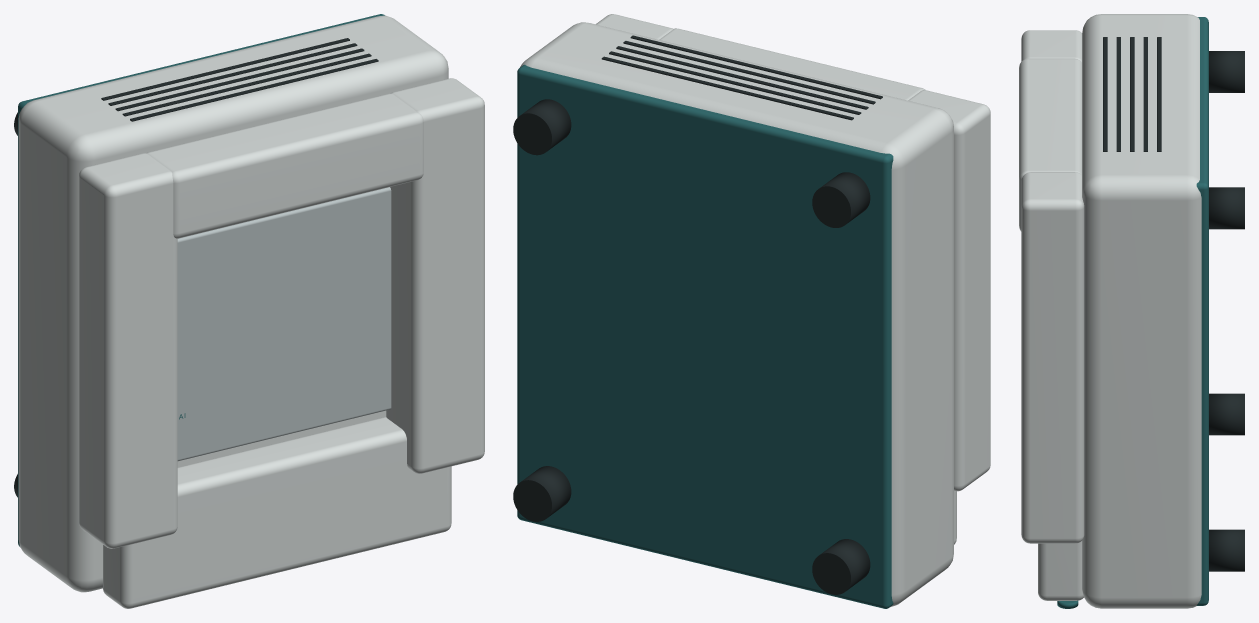
3 views of the same model, side by side, from view 1: azimuth 30°, elevation 25°; view 2: azimuth 150°, elevation 25°; view 3: azimuth 270°, elevation 25° (orthographic). The views are drawn at different scales.
Parts seen in each view (by area): view 1: lower_housing, reaction_floor, shoulder_left, front_console, shoulder_right, rear_shoulder, lower_trim, rear_vent_2, rear_vent_3, rear_vent_1, rear_vent_4, rear_vent_0; view 2: lower_trim, lower_housing, shoulder_left, rear_shoulder, foot_0_0, foot_1_1, foot_1_0, foot_0_1, rear_vent_1, rear_vent_2, rear_vent_0, rear_vent_3 (+2 smaller); view 3: lower_housing, shoulder_right, rear_shoulder, lower_trim, front_console, shoulder_left, foot_0_0, foot_1_0, foot_1_1, foot_0_1, rear_vent_0, rear_vent_1 (+3 smaller).
Part boxes in pixels (left/top/right/bottom): lower_housing: left=18, top=15, right=448, bottom=592; reaction_floor: left=177, top=187, right=391, bottom=461; shoulder_left: left=79, top=153, right=177, bottom=548; front_console: left=103, top=417, right=451, bottom=608; shoulder_right: left=386, top=78, right=484, bottom=473; rear_shoulder: left=146, top=93, right=423, bottom=238; lower_trim: left=18, top=14, right=384, bottom=546; rear_vent_2: left=115, top=48, right=364, bottom=111; rear_vent_3: left=122, top=53, right=371, bottom=116; rear_vent_1: left=108, top=43, right=357, bottom=105; rear_vent_4: left=130, top=59, right=378, bottom=121; rear_vent_0: left=101, top=38, right=349, bottom=100; lower_trim: left=517, top=64, right=893, bottom=608; lower_housing: left=520, top=22, right=953, bottom=607; shoulder_left: left=908, top=90, right=990, bottom=491; rear_shoulder: left=659, top=28, right=925, bottom=100; foot_0_0: left=812, top=539, right=870, bottom=594; foot_1_1: left=513, top=99, right=571, bottom=155; foot_1_0: left=513, top=466, right=571, bottom=521; foot_0_1: left=812, top=172, right=870, bottom=227; rear_vent_1: left=609, top=51, right=861, bottom=114; rear_vent_2: left=616, top=46, right=868, bottom=109; rear_vent_0: left=601, top=56, right=853, bottom=120; rear_vent_3: left=623, top=41, right=875, bottom=104; lower_housing: left=1082, top=14, right=1201, bottom=608; shoulder_right: left=1021, top=172, right=1084, bottom=543; rear_shoulder: left=1019, top=58, right=1081, bottom=231; lower_trim: left=1196, top=17, right=1208, bottom=605; front_console: left=1038, top=541, right=1083, bottom=600; shoulder_left: left=1021, top=30, right=1081, bottom=62; foot_0_0: left=1209, top=393, right=1244, bottom=435; foot_1_0: left=1209, top=529, right=1244, bottom=571; foot_1_1: left=1209, top=187, right=1244, bottom=229; foot_0_1: left=1209, top=51, right=1244, bottom=92; rear_vent_0: left=1157, top=37, right=1161, bottom=151; rear_vent_1: left=1143, top=37, right=1147, bottom=151.
Size of the model in its own units: 0.277 by 0.3235 by 0.1505.
